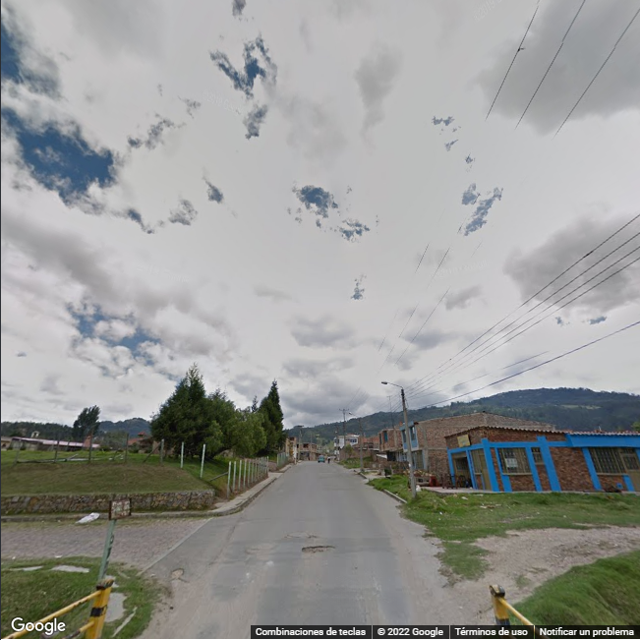D00: (358, 593, 372, 626)
D40: (299, 544, 340, 552), (170, 561, 183, 583)
